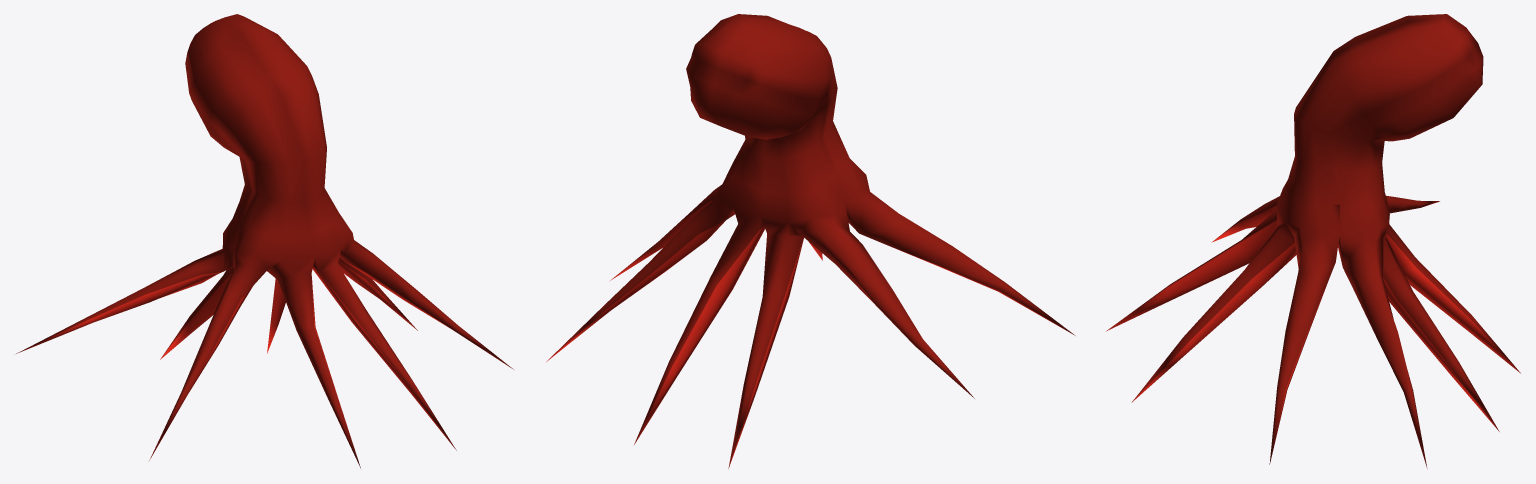
File: Octopus.obj
The picture shows the model from 3 angles, left to right: view 1: azimuth 30°, elevation 25°; view 2: azimuth 150°, elevation 25°; view 3: azimuth 270°, elevation 25°; orthographic projection. The views are drawn at different scales.
Visible parts, largest first — view 1: メッシュ; view 2: メッシュ; view 3: メッシュ.
Boxes of the visible parts, bbox=[...] form: メッシュ: bbox=[16, 14, 513, 468]; メッシュ: bbox=[546, 14, 1075, 468]; メッシュ: bbox=[1106, 14, 1520, 468].
Bounding box in the file's own units: 5.42 × 4.65 × 4.6.
